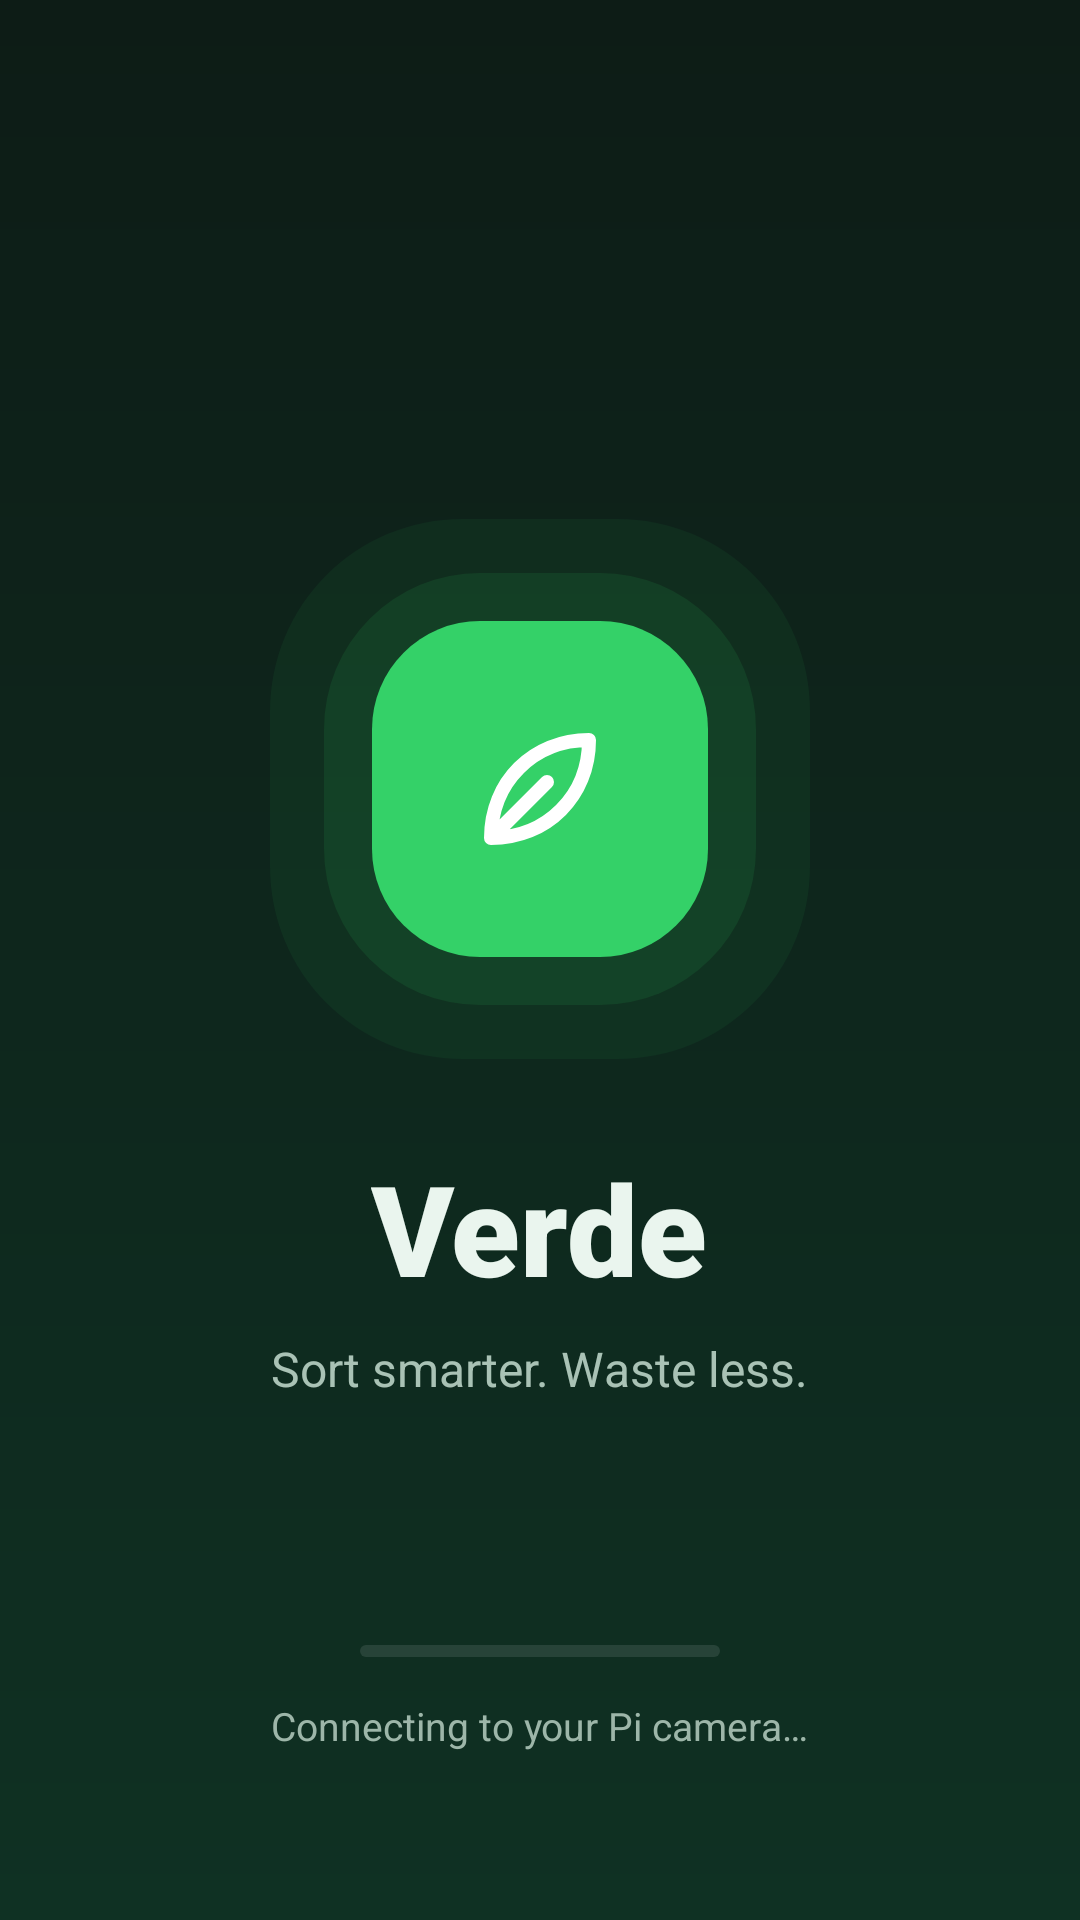

Named icons in this screenshot (1080*1920) and their centers, point (x, y):
leaf: point (540, 789)
